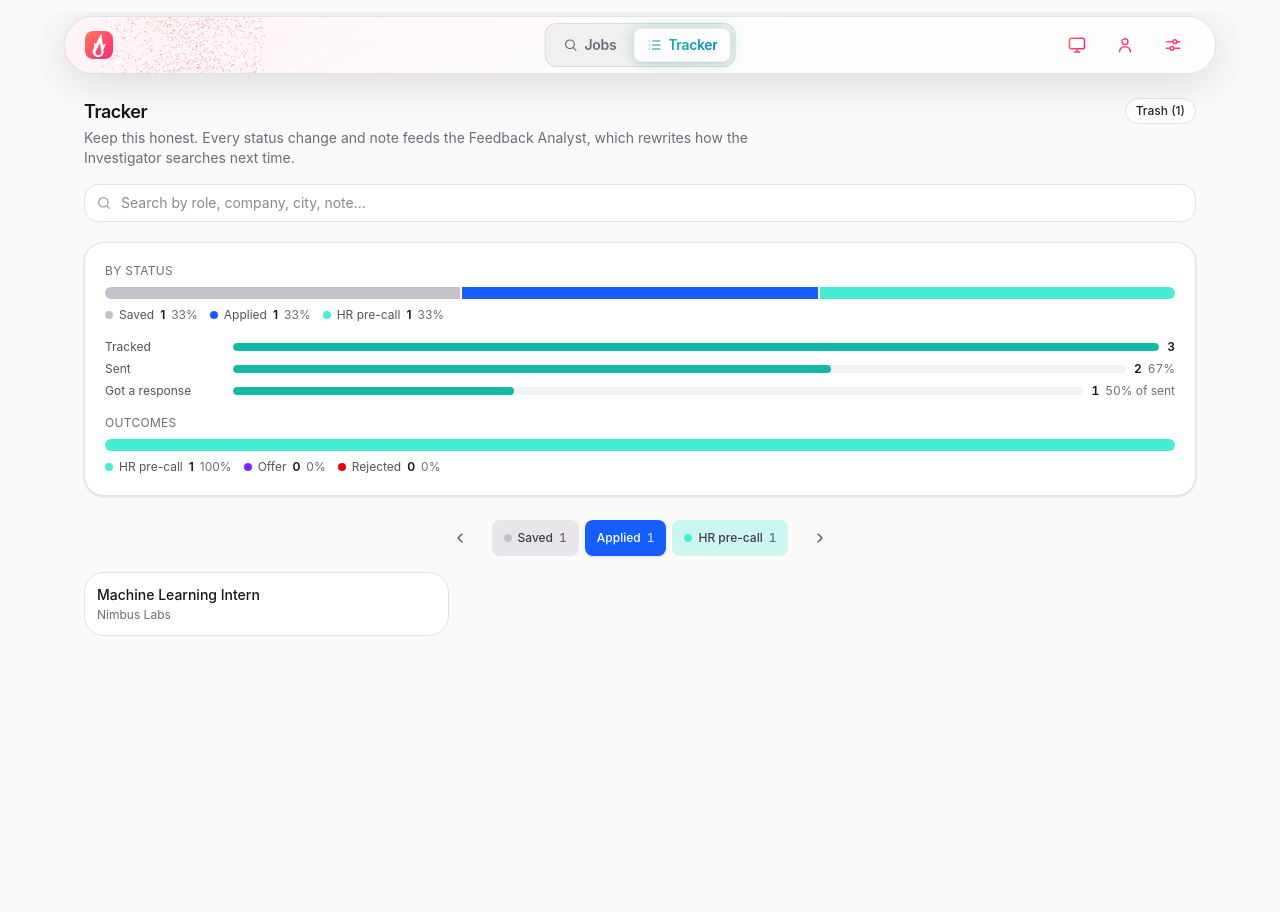
Scenario: the Tracker's search field › points at the trash when there is one and the search came up empty
Expected: the text "Nimbus Labs" is shown, top-left (97, 607), bottom-right (171, 622)
Type "castor" into the search field named "Search applications".
click(640, 203); type("castor")  # box top-left (84, 184), bottom-right (1196, 222)
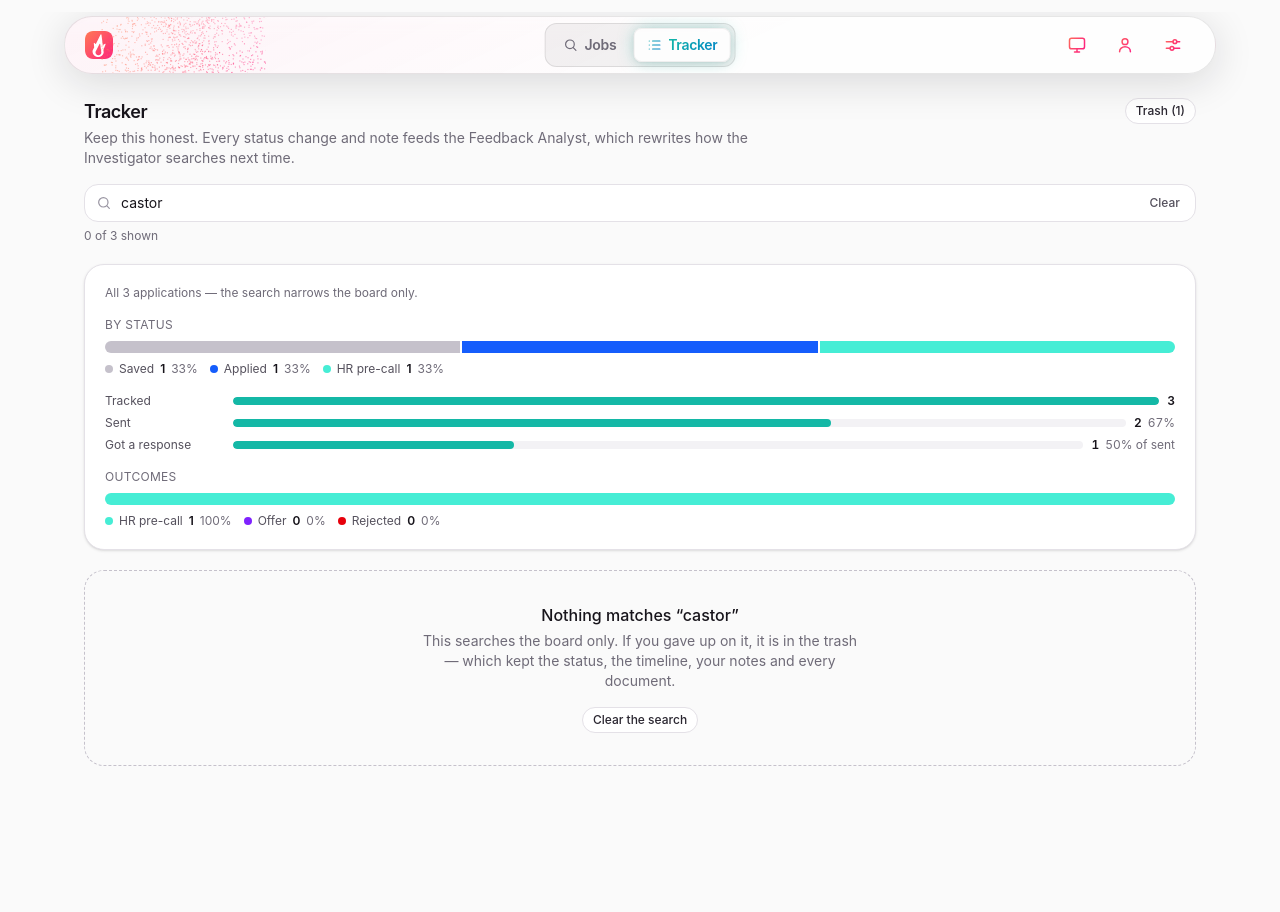
Expected: the text "This searches the board only" is shown, top-left (423, 632), bottom-right (857, 689)
